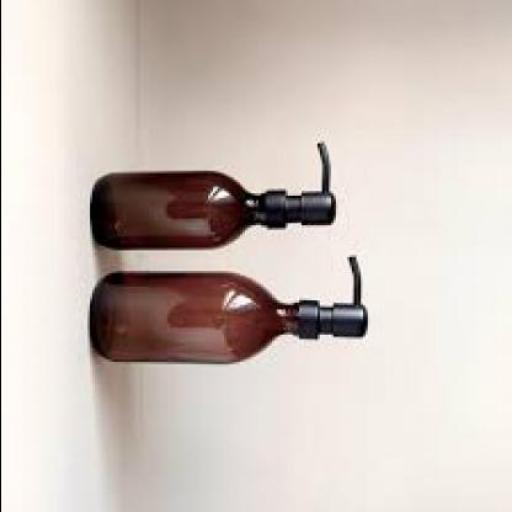glass: (89, 274, 300, 364), (91, 176, 266, 250)
plastic: (264, 143, 337, 232), (296, 260, 369, 341)
